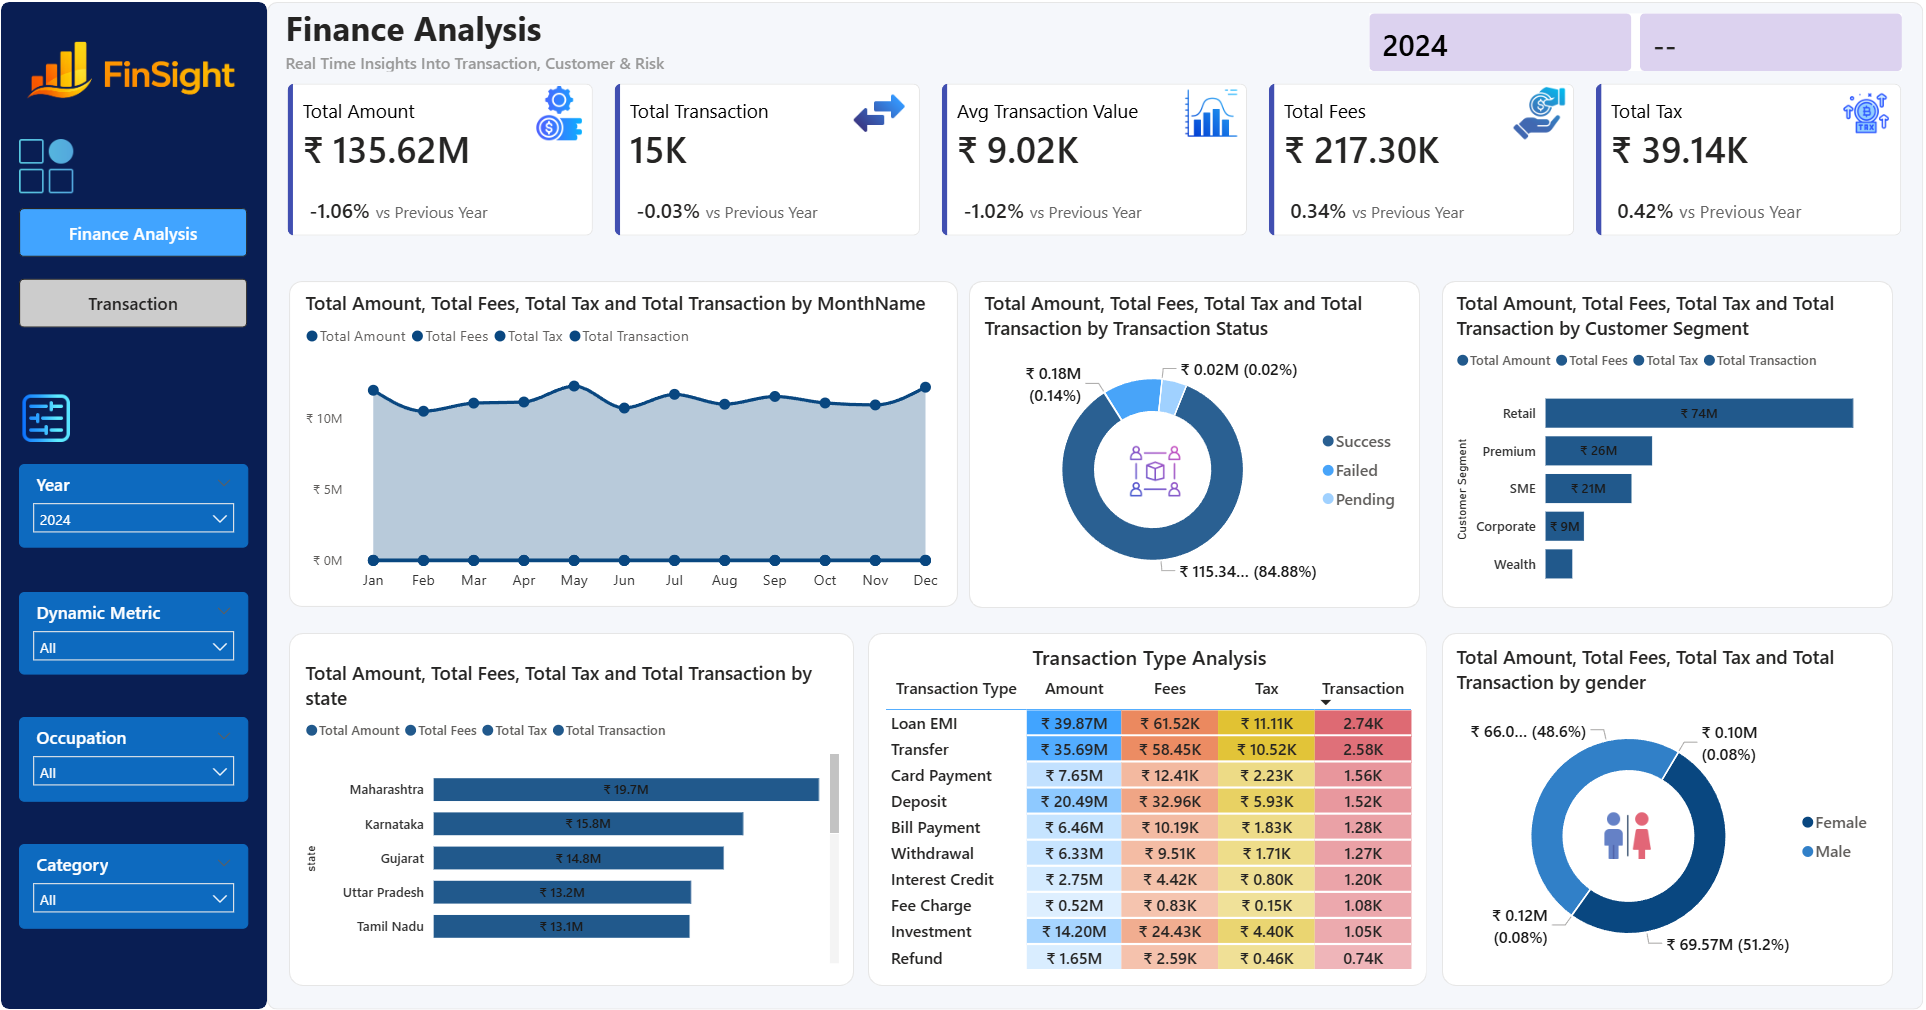

The dashboard page shown, as its layout file describes it:
{"tool":"powerbi","page":{"name":"Finance Analysis","canvas":[1800,950],"ordinal":0},"visuals":[{"type":"shape","box":[12,11,244.8,926.7],"z":0},{"type":"shape","box":[256.9,10.9,1524.3,927.3],"z":1000},{"type":"image","box":[28.5,11,210.7,126.1],"z":2000},{"type":"cardVisual","fields":{"Data":["finance_transactions.Dashboard Title"]},"box":[256.7,11,387.4,69],"z":3000},{"type":"cardVisual","fields":{"Data":["finance_transactions.Total Amount","finance_transactions.Total Transaction","finance_transactions.Avg Transaction Value","finance_transactions.Total Fees","finance_transactions.Total Tax"]},"box":[269.5,79.9,1497.8,152.1],"z":4000},{"type":"image","box":[500.5,88.6,50.1,50],"z":5000},{"type":"image","box":[795.1,88.6,50.1,50.1],"z":6000},{"type":"image","box":[1402.5,88.6,50.1,50.1],"z":7000},{"type":"image","box":[1100.2,88.6,50.1,50.1],"z":8000},{"type":"image","box":[1703.7,88.6,50.1,50.1],"z":9000},{"type":"slicer","fields":{"Values":["Date table.Year"]},"box":[28.4,436.3,210.8,77.5],"z":10000},{"type":"slicer","fields":{"Values":["Dynamic Metric.Dynamic Metric"]},"box":[28.4,553.9,210.8,76.5],"z":11000},{"type":"shape","box":[277,267.8,615.6,300],"z":12000},{"type":"areaChart","fields":{"Y":["finance_transactions.Total Amount","finance_transactions.Total Fees","finance_transactions.Total Tax","finance_transactions.Total Transaction"],"Category":["Date table.MonthName"]},"box":[287.1,275.2,599.1,286.2],"z":13000},{"type":"cardVisual","fields":{"Data":["finance_transactions.Selected Year","finance_transactions.Selected Dynamic Metric"]},"box":[1266.4,16.9,500.8,63.5],"z":14000},{"type":"shape","box":[902.8,267.8,415,300.9],"z":15000},{"type":"donutChart","fields":{"Y":["finance_transactions.Total Amount","finance_transactions.Total Fees","finance_transactions.Total Tax","finance_transactions.Total Transaction"],"Category":["finance_transactions.transaction_status"]},"box":[912,275.2,397.5,286.2],"z":16000},{"type":"shape","box":[1338,267.8,415,300.9],"z":17000},{"type":"barChart","fields":{"Y":["finance_transactions.Total Amount","finance_transactions.Total Fees","finance_transactions.Total Tax","finance_transactions.Total Transaction"],"Category":["customers.customer_segment"]},"box":[1346.3,275.2,398.5,286.2],"z":18000},{"type":"shape","box":[277,591.7,519.9,324.8],"z":19000},{"type":"barChart","fields":{"Y":["finance_transactions.Total Amount","finance_transactions.Total Fees","finance_transactions.Total Tax","finance_transactions.Total Transaction"],"Category":["customers.state"]},"box":[287.1,615.6,500.6,285.3],"z":20000},{"type":"shape","box":[809.8,591.7,514.4,324.8],"z":21000},{"type":"tableEx","title":"Transaction Type Analysis","fields":{"Values":["finance_transactions.transaction_type","finance_transactions.Total Amount","finance_transactions.Total Fees","finance_transactions.Total Tax","finance_transactions.Total Transaction"]},"box":[819.9,600.9,497.9,309.2],"z":22000},{"type":"shape","box":[1338,591.7,415,324.8],"z":23000},{"type":"donutChart","fields":{"Y":["finance_transactions.Total Amount","finance_transactions.Total Fees","finance_transactions.Total Tax","finance_transactions.Total Transaction"],"Category":["customers.gender"]},"box":[1346.3,600.9,397.5,309.2],"z":24000},{"type":"image","box":[1049,417.6,51,50],"z":25000},{"type":"image","box":[1483.3,753.9,51,49],"z":26000},{"type":"slicer","fields":{"Values":["customers.occupation"]},"box":[28.4,668.6,210.8,78.4],"z":27000},{"type":"slicer","fields":{"Values":["finance_transactions.merchant_category"]},"box":[28.4,786.3,210.8,78.4],"z":28000},{"type":"pageNavigator","box":[28.4,201,210.8,110.8],"z":29000},{"type":"image","box":[28.4,137.3,50,50],"z":30000},{"type":"image","box":[28.4,368.6,50,50],"z":31000}]}

Visuals, with their boxes on the page's 1800x950 design canvas (x1, y1, x2, y2). These are canvas units, not pixel positions in the 1926x1010 screenshot, which may show the page scaled, cropped or inside an application window:
shape: (x1=12, y1=11, x2=257, y2=938)
shape: (x1=257, y1=11, x2=1781, y2=938)
image: (x1=28, y1=11, x2=239, y2=137)
cardVisual - finance_transactions.Dashboard Title: (x1=257, y1=11, x2=644, y2=80)
cardVisual - finance_transactions.Total Amount x finance_transactions.Total Transaction: (x1=270, y1=80, x2=1767, y2=232)
image: (x1=500, y1=89, x2=551, y2=139)
image: (x1=795, y1=89, x2=845, y2=139)
image: (x1=1402, y1=89, x2=1453, y2=139)
image: (x1=1100, y1=89, x2=1150, y2=139)
image: (x1=1704, y1=89, x2=1754, y2=139)
slicer - Date table.Year: (x1=28, y1=436, x2=239, y2=514)
slicer - Dynamic Metric.Dynamic Metric: (x1=28, y1=554, x2=239, y2=630)
shape: (x1=277, y1=268, x2=893, y2=568)
areaChart - finance_transactions.Total Amount x finance_transactions.Total Fees: (x1=287, y1=275, x2=886, y2=561)
cardVisual - finance_transactions.Selected Year x finance_transactions.Selected Dynamic Metric: (x1=1266, y1=17, x2=1767, y2=80)
shape: (x1=903, y1=268, x2=1318, y2=569)
donutChart - finance_transactions.Total Amount x finance_transactions.Total Fees: (x1=912, y1=275, x2=1310, y2=561)
shape: (x1=1338, y1=268, x2=1753, y2=569)
barChart - finance_transactions.Total Amount x finance_transactions.Total Fees: (x1=1346, y1=275, x2=1745, y2=561)
shape: (x1=277, y1=592, x2=797, y2=916)
barChart - finance_transactions.Total Amount x finance_transactions.Total Fees: (x1=287, y1=616, x2=788, y2=901)
shape: (x1=810, y1=592, x2=1324, y2=916)
"Transaction Type Analysis" tableEx: (x1=820, y1=601, x2=1318, y2=910)
shape: (x1=1338, y1=592, x2=1753, y2=916)
donutChart - finance_transactions.Total Amount x finance_transactions.Total Fees: (x1=1346, y1=601, x2=1744, y2=910)
image: (x1=1049, y1=418, x2=1100, y2=468)
image: (x1=1483, y1=754, x2=1534, y2=803)
slicer - customers.occupation: (x1=28, y1=669, x2=239, y2=747)
slicer - finance_transactions.merchant_category: (x1=28, y1=786, x2=239, y2=865)
pageNavigator: (x1=28, y1=201, x2=239, y2=312)
image: (x1=28, y1=137, x2=78, y2=187)
image: (x1=28, y1=369, x2=78, y2=419)
